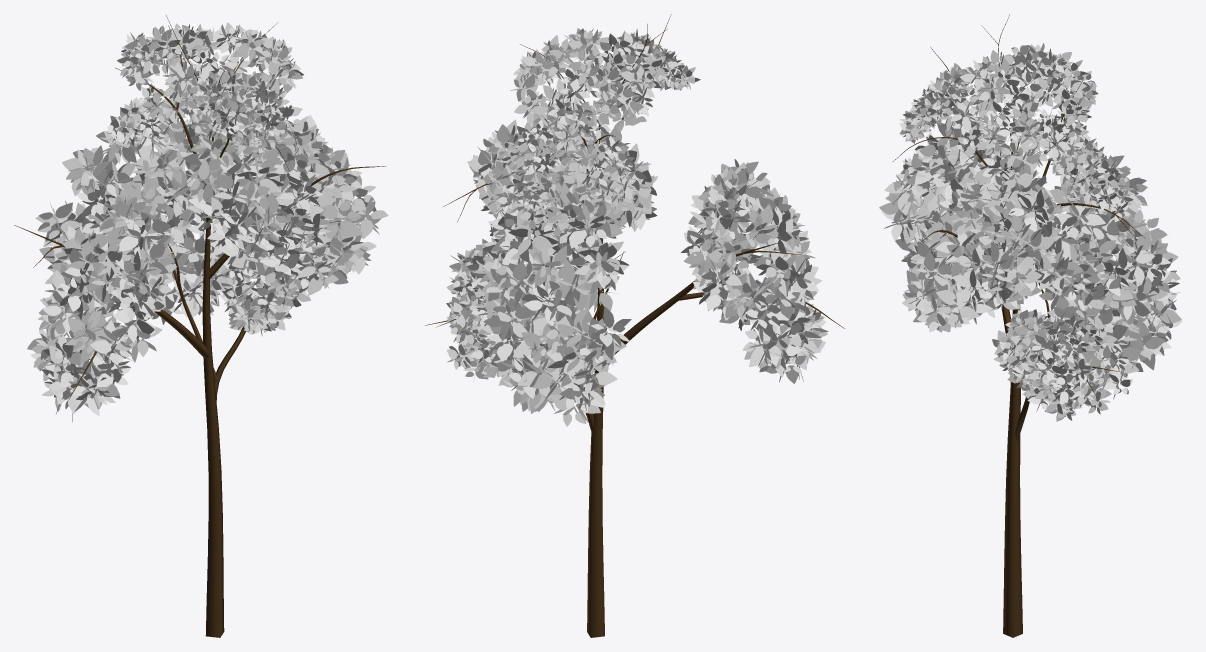
File: Tree_Textured.fbx
The picture shows the model from 3 angles, left to right: view 1: azimuth 30°, elevation 25°; view 2: azimuth 150°, elevation 25°; view 3: azimuth 270°, elevation 25°; orthographic projection. The views are drawn at different scales.
Visible parts, largest first — view 1: Trunk; view 2: Trunk; view 3: Trunk.
Boxes of the visible parts, box(x1,y1,x2,y2) form: Trunk: box(14, 15, 388, 637); Trunk: box(425, 14, 844, 637); Trunk: box(879, 14, 1182, 637).
Bounding box in the file's own units: 383 × 662 × 319.
